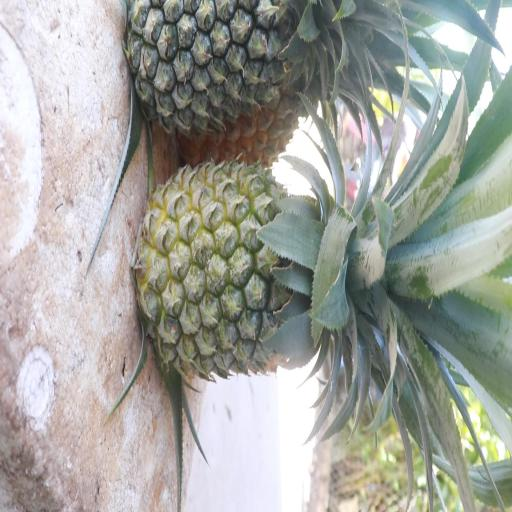------------------------------: (131, 165, 443, 384)
